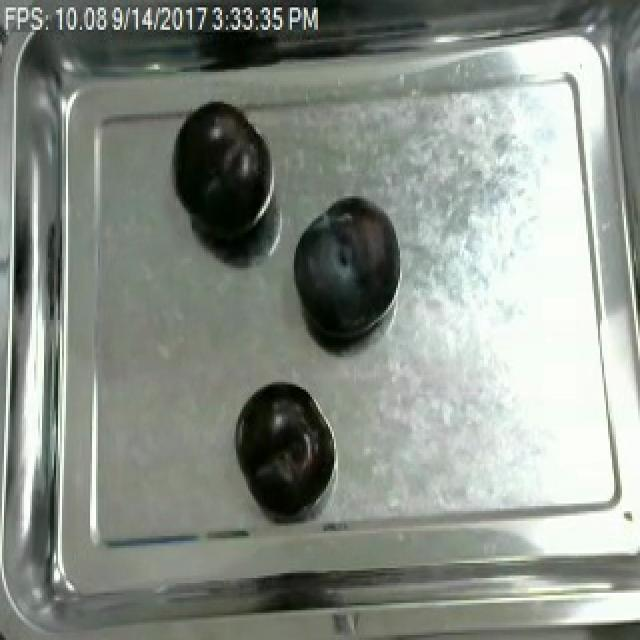Fruit: (288, 194, 402, 348), (166, 99, 278, 253), (230, 377, 332, 519)
